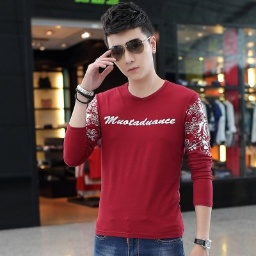face: (100, 2, 161, 84)
